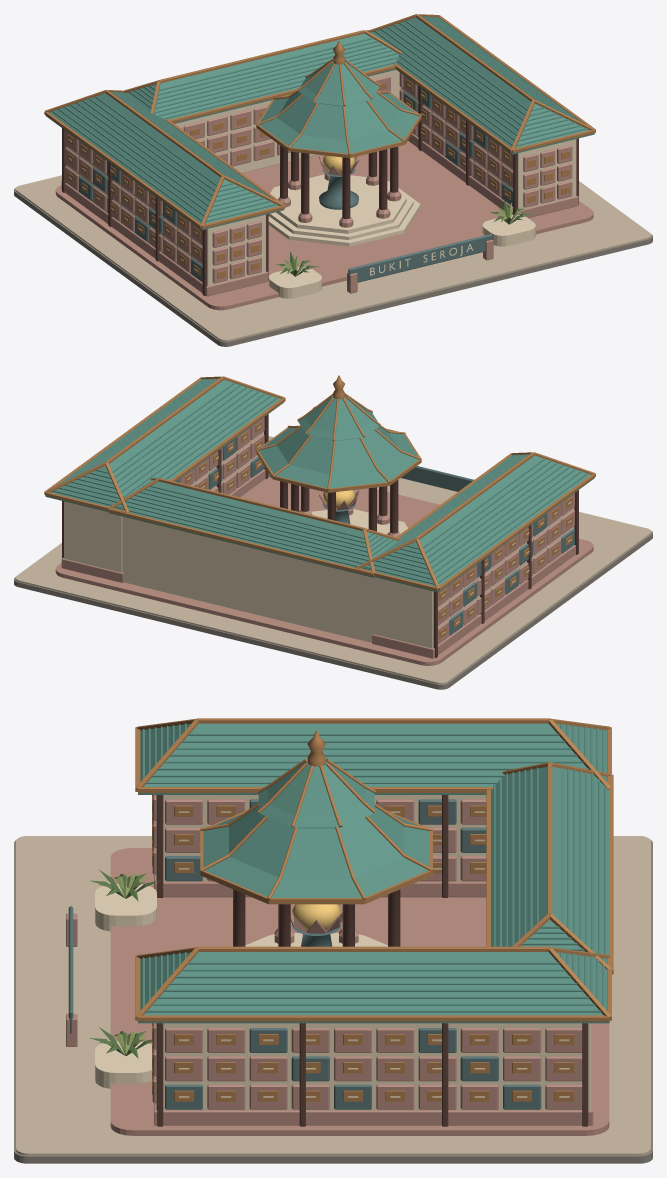
3 renders of one model, top to bottom at view 1: azimuth 30°, elevation 25°; view 2: azimuth 150°, elevation 25°; view 3: azimuth 270°, elevation 25°, orthographic. The views are drawn at different scales.
Parts seen in each view (by area): view 1: Sandstone Court, Celadon Roofs, Niche Cloisters, Lotus Lantern Pavilion, Courtyard Planting; view 2: Celadon Roofs, Niche Cloisters, Sandstone Court, Lotus Lantern Pavilion; view 3: Celadon Roofs, Sandstone Court, Niche Cloisters, Lotus Lantern Pavilion, Courtyard Planting.
Boxes of the visible parts, <box> form: Sandstone Court: <box>14,141,652,346</box>; Celadon Roofs: <box>44,14,595,230</box>; Niche Cloisters: <box>61,70,578,296</box>; Lotus Lantern Pavilion: <box>256,40,421,246</box>; Courtyard Planting: <box>268,199,535,298</box>; Celadon Roofs: <box>44,376,595,592</box>; Niche Cloisters: <box>61,414,578,658</box>; Sandstone Court: <box>14,436,652,689</box>; Lotus Lantern Pavilion: <box>256,375,421,536</box>; Celadon Roofs: <box>135,718,613,1023</box>; Sandstone Court: <box>14,836,652,1163</box>; Niche Cloisters: <box>152,795,593,1126</box>; Lotus Lantern Pavilion: <box>200,730,433,946</box>; Courtyard Planting: <box>89,869,160,1088</box>.
Bounding box in the file's own units: 22 × 8.78 × 18.6.
